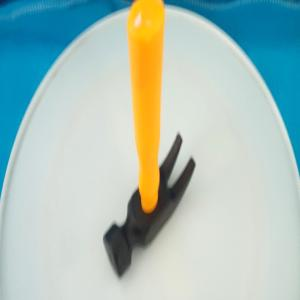martelo: (102, 0, 197, 280)
